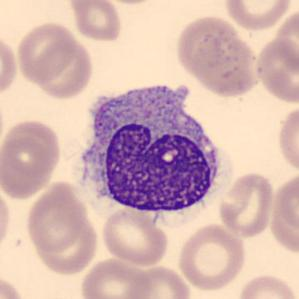Monocyte: (72, 74, 232, 225)
RBC: (173, 13, 262, 99), (175, 221, 249, 292), (28, 208, 101, 278), (23, 179, 89, 254), (99, 205, 170, 267), (14, 20, 79, 85), (216, 170, 276, 240), (33, 34, 95, 100), (0, 133, 59, 201), (253, 34, 298, 106), (79, 256, 153, 299), (269, 168, 298, 256), (67, 0, 124, 43), (125, 262, 191, 299), (222, 0, 293, 32), (274, 101, 299, 176), (235, 272, 298, 299), (0, 30, 19, 100), (0, 184, 13, 255), (0, 274, 27, 299), (96, 0, 164, 6)
